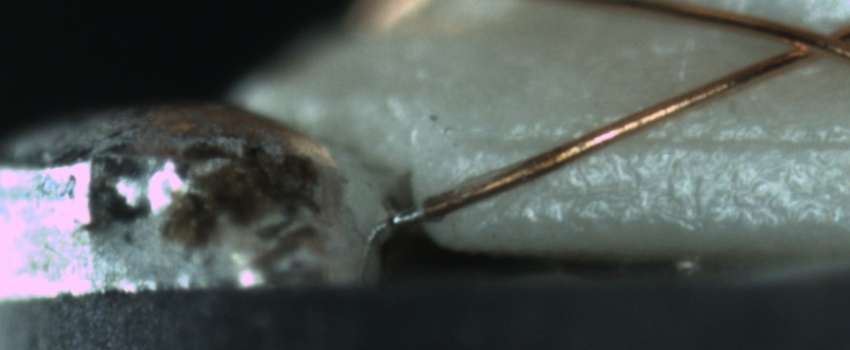CL: (770, 18, 847, 67)
DL: (462, 109, 850, 176)
TS: (387, 203, 424, 230)
